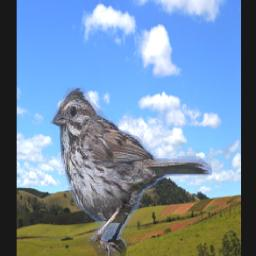Sparrow: (51, 84, 213, 256)
